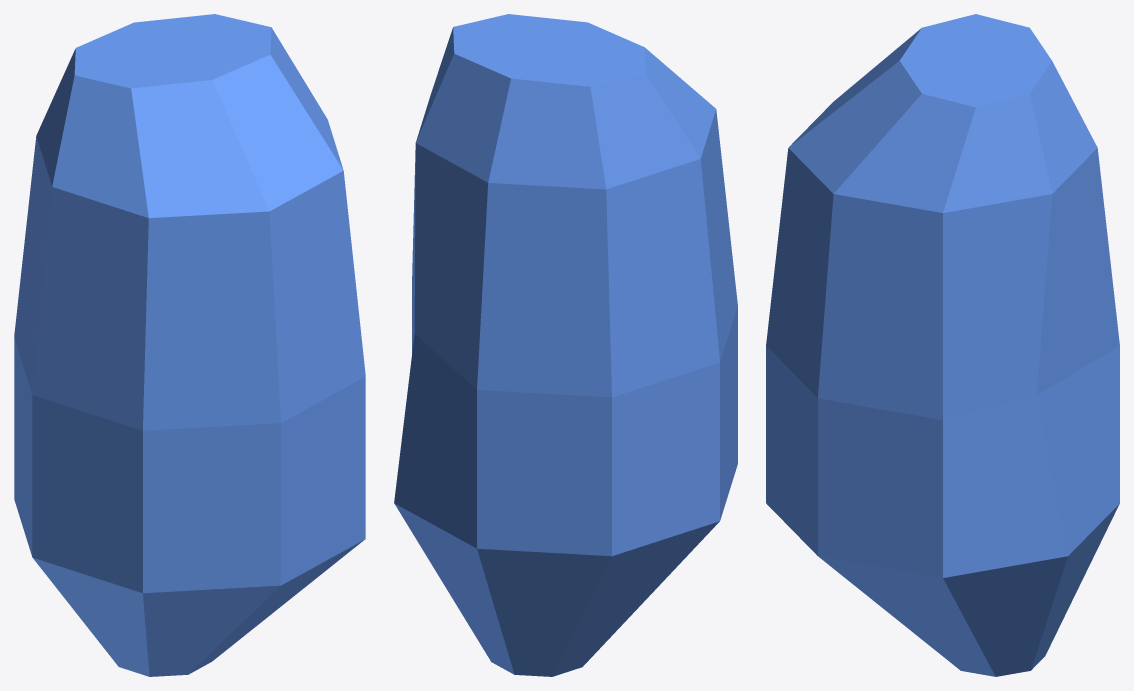
File: ColMeshMiddle.fbx
3 renders of one model, left to right at view 1: azimuth 30°, elevation 25°; view 2: azimuth 150°, elevation 25°; view 3: azimuth 270°, elevation 25°, orthographic. The views are drawn at different scales.
Visible parts, largest first — view 1: Circle; view 2: Circle; view 3: Circle.
Part boxes in pixels (left/top/right/bottom): Circle: left=14, top=14, right=365, bottom=676; Circle: left=394, top=14, right=737, bottom=676; Circle: left=766, top=14, right=1119, bottom=676.
Size of the model in its own units: 70.7 by 131 by 70.7.
1 material, 1 textured.
